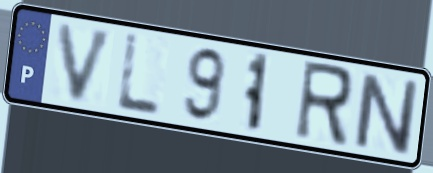1: (243, 50, 273, 138)
9: (180, 44, 230, 125)
L: (113, 31, 163, 119)
N: (352, 69, 421, 159)
R: (290, 57, 356, 151)
V: (55, 20, 119, 107)
